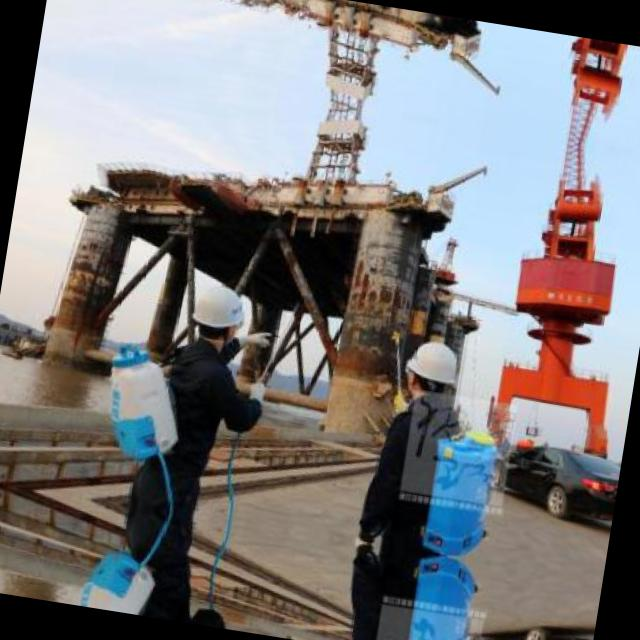helmet: (170, 268, 258, 354), (398, 334, 463, 407)
